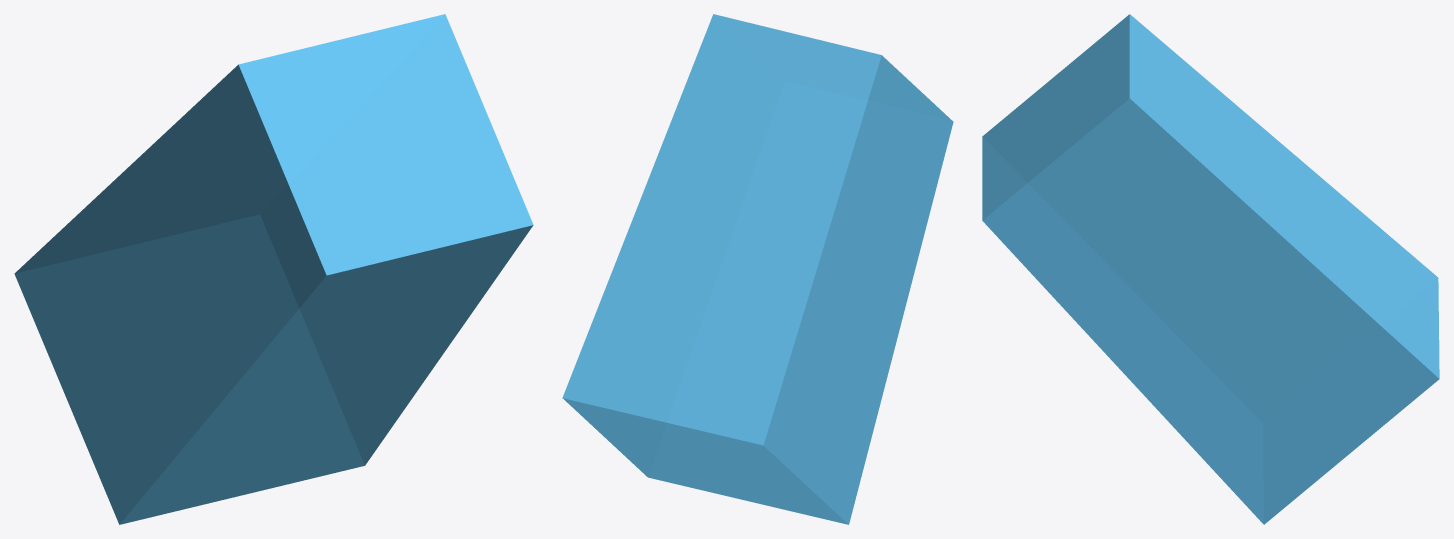
Rendered from Event_420604493_HBrechit_0.fbx.
The picture shows the model from 3 angles, left to right: view 1: azimuth 30°, elevation 25°; view 2: azimuth 150°, elevation 25°; view 3: azimuth 270°, elevation 25°; orthographic projection. The views are drawn at different scales.
Parts seen in each view (by area): view 1: Model; view 2: Model; view 3: Model.
Part boxes in pixels (left/top/right/bottom): Model: left=14, top=14, right=533, bottom=524; Model: left=562, top=14, right=953, bottom=524; Model: left=982, top=14, right=1439, bottom=524.
Size of the model in its own units: 0.4775 by 0.9456 by 0.9185.
